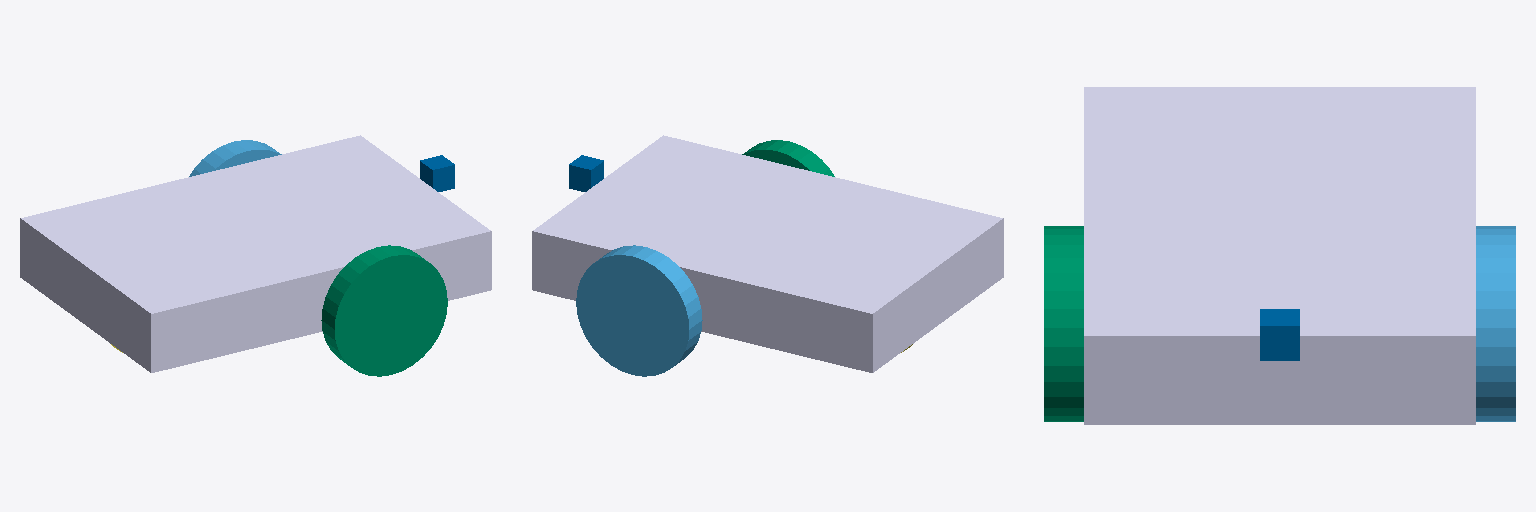
The robot description file, URDF, robot "simple_robot":
<?xml version="1.0"?>
<robot name="simple_robot" xmlns:xacro="http://www.ros.org/wiki/xacro">
  <material name="acrylic"><color rgba="0.9 0.9 1.0 0.4"/></material>
  <material name="black"><color rgba="0.0 0.0 0.0 1.0"/></material>
  <material name="yellow"><color rgba="1.0 0.8 0.0 1.0"/></material>
  <material name="red"><color rgba="0.8 0.0 0.0 1.0"/></material>
  <link name="base_link">
    <visual><geometry><box size="0.3 0.2 0.05"/></geometry><material name="acrylic"/><origin xyz="0 0 0.05" rpy="0 0 0"/></visual>
    <collision><geometry><box size="0.3 0.2 0.05"/></geometry><origin xyz="0 0 0.05" rpy="0 0 0"/></collision>
    <inertial><mass value="1.0"/><inertia ixx="0.01" ixy="0.0" ixz="0.0" iyy="0.01" iyz="0.0" izz="0.01"/></inertial>
  </link>

  <link name="left_wheel">
    <visual><geometry><cylinder length="0.02" radius="0.05"/></geometry></visual>
    <collision><geometry><cylinder length="0.02" radius="0.05"/></geometry><surface><friction><ode><mu>1.0</mu><mu2>1.0</mu2></ode></friction></surface></collision>
    <inertial><mass value="0.2"/><inertia ixx="0.001" ixy="0" ixz="0" iyy="0.001" iyz="0" izz="0.001"/></inertial>
 
  <inertial><mass value="0.2"/><inertia ixx="0.001" ixy="0" ixz="0" iyy="0.001" iyz="0" izz="0.001"/></inertial>
</link>

<joint name="left_wheel_joint" type="continuous"><parent link="base_link"/><child link="left_wheel"/><origin xyz="0.05 0.11 0.035" rpy="-1.5708 0 0"/><axis xyz="0 0 1"/></joint>

<link name="right_wheel">

    <visual><geometry><cylinder length="0.02" radius="0.05"/></geometry></visual>
    <collision><geometry><cylinder length="0.02" radius="0.05"/></geometry><surface><friction><ode><mu>1.0</mu><mu2>1.0</mu2></ode></friction></surface></collision>
    <inertial><mass value="0.2"/><inertia ixx="0.001" ixy="0" ixz="0" iyy="0.001" iyz="0" izz="0.001"/></inertial>
  </link>
  
  <joint name="right_wheel_joint" type="continuous"><parent link="base_link"/><child link="right_wheel"/><origin xyz="0.05 -0.11 0.035" rpy="-1.5708 0 0"/><axis xyz="0 0 1"/></joint>
  <link name="caster_wheel">

    <visual><geometry><sphere radius="0.035"/></geometry></visual>
    <collision><geometry><sphere radius="0.035"/></geometry><surface><friction><ode><mu>1.0</mu><mu2>1.0</mu2></ode></friction></surface></collision>
    <inertial><mass value="0.1"/><inertia ixx="0.001" ixy="0" ixz="0" iyy="0.001" iyz="0" izz="0.001"/></inertial>
  </link>

  
  <joint name="caster_joint" type="fixed"><parent link="base_link"/><child link="caster_wheel"/><origin xyz="-0.1 0 0.025" rpy="0 0.4 0"/></joint>
  
  <link name="camera_link">
    <visual><geometry><box size="0.02 0.02 0.02"/></geometry></visual>
    <collision><geometry><box size="0.02 0.02 0.02"/></geometry></collision>
    <inertial><mass value="0.05"/><inertia ixx="0.0001" ixy="0" ixz="0" iyy="0.0001" iyz="0" izz="0.0001"/></inertial>
  </link>

  <joint name="camera_joint" type="fixed"><parent link="base_link"/><child link="camera_link"/><origin xyz="0.16 0 0.08" rpy="0 0.0 0"/></joint>
  
  <gazebo reference="camera_link">
    <sensor type="camera" name="line_camera">
      <update_rate>10.0</update_rate>
      <camera name="head">
      <horizontal_fov>1.396</horizontal_fov>
      <image>
      <width>320</width><height>240</height>
      <format>R8G8B8</format>
      </image>
      <clip><near>0.02</near><far>10</far></clip></camera>
      <plugin name="camera_controller" filename="libgazebo_ros_camera.so">
        <alwaysOn>true</alwaysOn><updateRate>0.0</updateRate><cameraName>camera</cameraName><imageTopicName>image_raw</imageTopicName><frameName>camera_link</frameName><hackBaseline>0.07</hackBaseline>
      </plugin>
    </sensor>
    
  </gazebo>

    <gazebo reference="base_link">
      <material>Gazebo/Blue</material>
    </gazebo>
    <gazebo reference="left_wheel">
      <material>Gazebo/FlatBlack</material>
    </gazebo>
    <gazebo reference="right_wheel">
      <material>Gazebo/FlatBlack</material>
    </gazebo>
    <gazebo reference="caster_wheel">
      <material>Gazebo/Chrome</material>
    </gazebo>
    <gazebo reference="camera_link">
      <material>Gazebo/DarkGrey</material>
    </gazebo>
  <gazebo>
    <plugin name="diff_drive" filename="libgazebo_ros_diff_drive.so"><ros><namespace>/</namespace></ros><left_joint>left_wheel_joint</left_joint><right_joint>right_wheel_joint</right_joint><wheel_separation>0.22</wheel_separation><wheel_diameter>0.07</wheel_diameter><max_wheel_torque>10</max_wheel_torque><max_wheel_acceleration>1.0</max_wheel_acceleration><publish_odom>true</publish_odom><publish_odom_tf>true</publish_odom_tf><publish_wheel_tf>true</publish_wheel_tf><odometry_frame>odom</odometry_frame><robot_base_frame>base_link</robot_base_frame></plugin>
  </gazebo>
</robot>

--- Render facts (derived) ---
Views: 3 orthographic renders of the robot side by side, from view 1: azimuth 30°, elevation 25°; view 2: azimuth 150°, elevation 25°; view 3: azimuth 270°, elevation 25°.
Robot: simple_robot — 5 links, 4 joints (2 continuous, 2 fixed); root link base_link; default pose: all joints at 0.
Links seen in each view (by area): view 1: base_link, right_wheel, left_wheel, camera_link; view 2: base_link, left_wheel, right_wheel, camera_link; view 3: base_link, left_wheel, right_wheel, camera_link.
Boxes of the visible links, x1,y1,x2,y2 form: base_link: [20, 135, 491, 372]; right_wheel: [321, 245, 447, 376]; left_wheel: [189, 140, 281, 176]; camera_link: [420, 155, 454, 191]; base_link: [532, 135, 1003, 372]; left_wheel: [576, 245, 702, 376]; right_wheel: [742, 140, 834, 176]; camera_link: [569, 155, 603, 191]; base_link: [1084, 87, 1475, 424]; left_wheel: [1476, 226, 1515, 421]; right_wheel: [1044, 226, 1083, 421]; camera_link: [1260, 309, 1299, 360].
Bounding box of the posed robot: 0.32 × 0.24 × 0.105 m (x, y, z).
Geometry: primitives only (box / cylinder / sphere), no mesh files.
